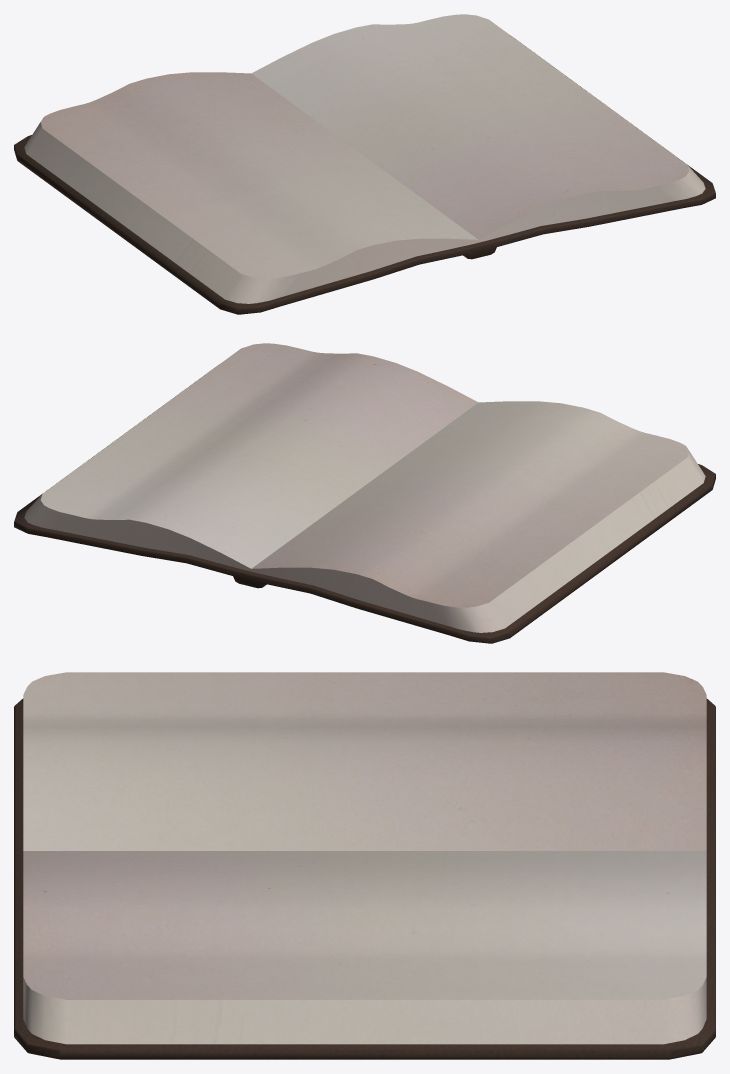
The model's file is Journal_Open.gltf.
3 views of the same model, one above another, from view 1: azimuth 30°, elevation 25°; view 2: azimuth 150°, elevation 25°; view 3: azimuth 270°, elevation 25° (orthographic). The views are drawn at different scales.
Visible parts, largest first — view 1: BookPages, BookCover; view 2: BookPages, BookCover; view 3: BookPages, BookCover.
Part boxes in pixels (x1,y1,x2,y2): BookPages: (24, 14, 705, 303); BookCover: (14, 42, 715, 314); BookPages: (24, 343, 705, 632); BookCover: (14, 371, 715, 643); BookPages: (23, 672, 706, 1044); BookCover: (14, 698, 715, 1059).
Bounding box in the file's own units: 14.12 × 1.07 × 11.6.
Materials: 2 (2 with a texture image).
